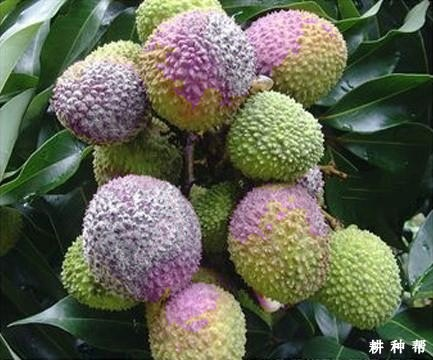Frost_Blight: (84, 177, 201, 289), (267, 130, 337, 279), (62, 56, 150, 139), (187, 8, 256, 113), (164, 279, 230, 343)
